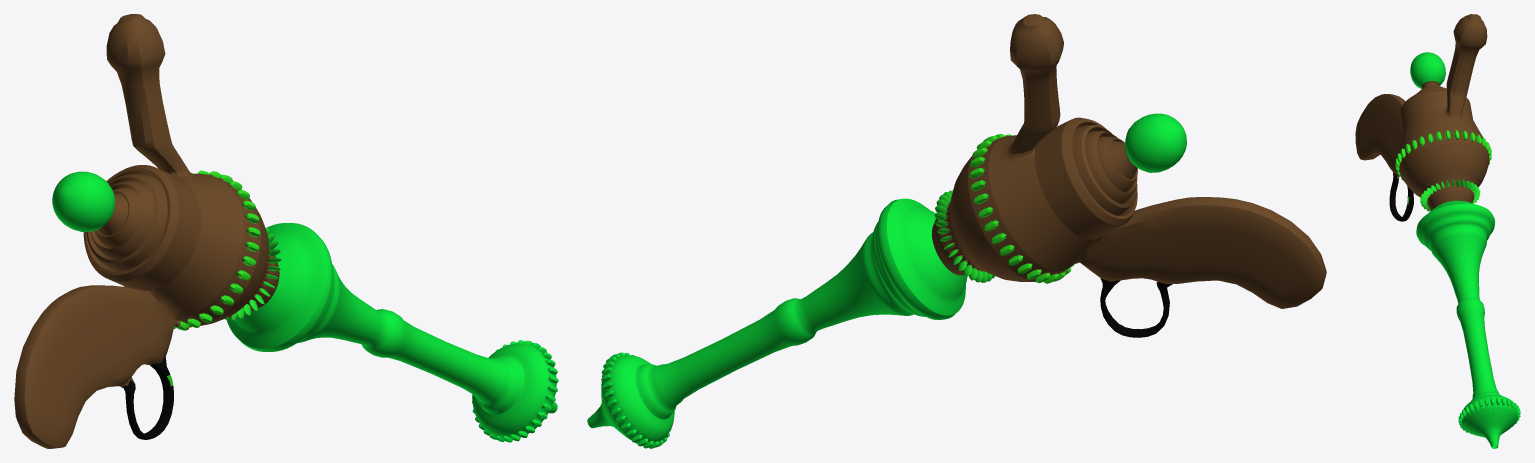
The model's file is gun.fbx.
3 renders of one model, left to right at view 1: azimuth 30°, elevation 25°; view 2: azimuth 150°, elevation 25°; view 3: azimuth 270°, elevation 25°, orthographic. The views are drawn at different scales.
Parts seen in each view (by area): view 1: Cylinder; view 2: Cylinder; view 3: Cylinder.
Boxes of the visible parts, x1,y1,x2,y2 form: Cylinder: (14, 14, 558, 448); Cylinder: (587, 14, 1326, 448); Cylinder: (1355, 14, 1520, 448).
Size of the model in its own units: 1227 by 947 by 455.
